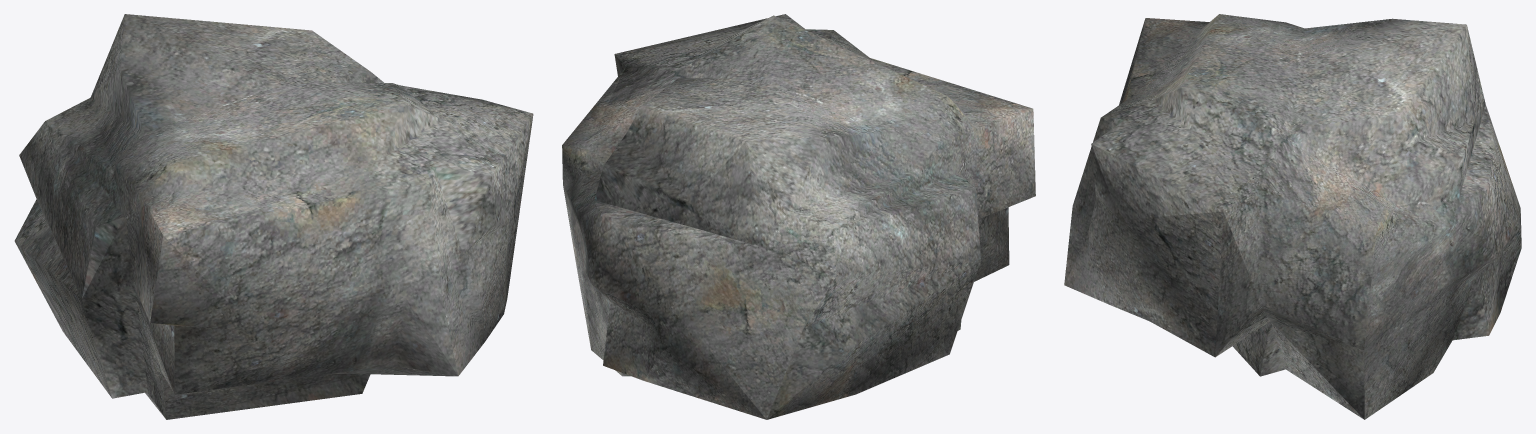
File: rock7.glb
3 views of the same model, side by side, from view 1: azimuth 30°, elevation 25°; view 2: azimuth 150°, elevation 25°; view 3: azimuth 270°, elevation 25° (orthographic). The views are drawn at different scales.
Visible parts, largest first — view 1: rock7; view 2: rock7; view 3: rock7.
Boxes of the visible parts, left/top/right/bottom form: rock7: left=14, top=14, right=533, bottom=419; rock7: left=562, top=14, right=1035, bottom=419; rock7: left=1064, top=14, right=1521, bottom=419.
Size of the model in its own units: 2.55 by 1.85 by 2.6.
1 material, 1 textured.
